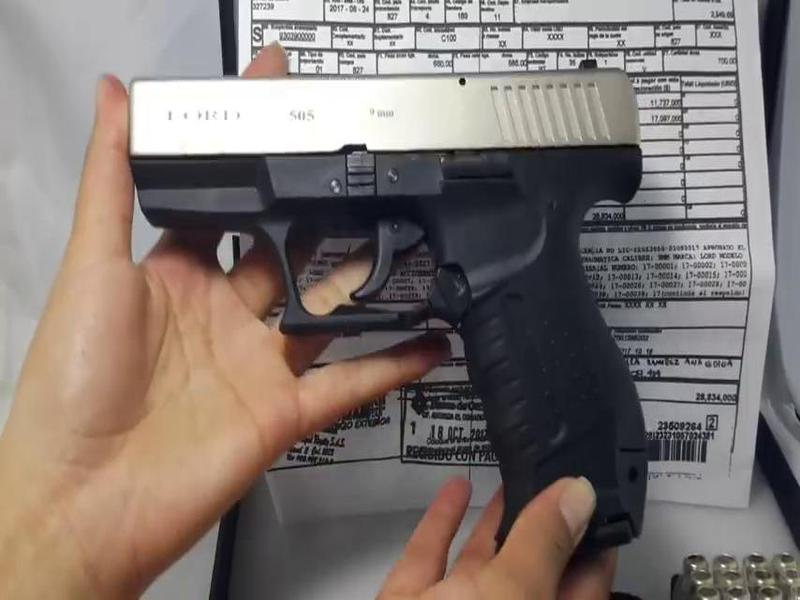Pistola: (102, 59, 697, 564)
